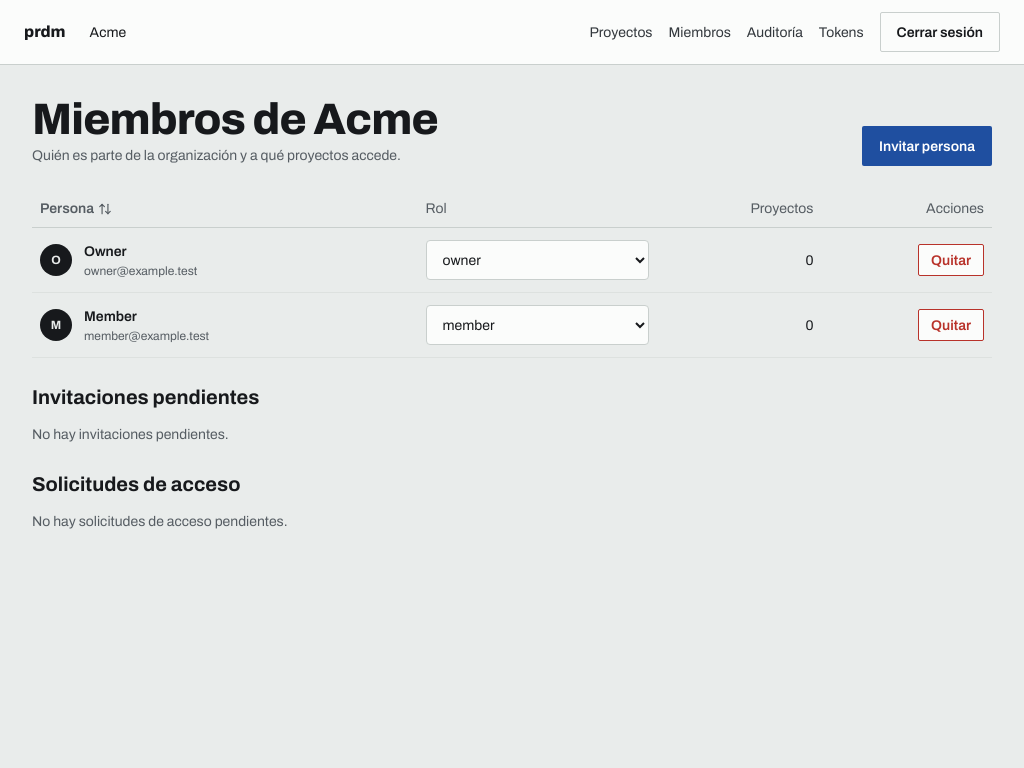
Test case: OrgMembersSettings › surfaces a server error (e.g. last-owner rule) without crashing the page
Expected: the text "owner@example.test" is shown, [84,262,197,280]
Click the button "Quitar" in the row of "owner@example.test": (951, 260) [918,244,984,276]
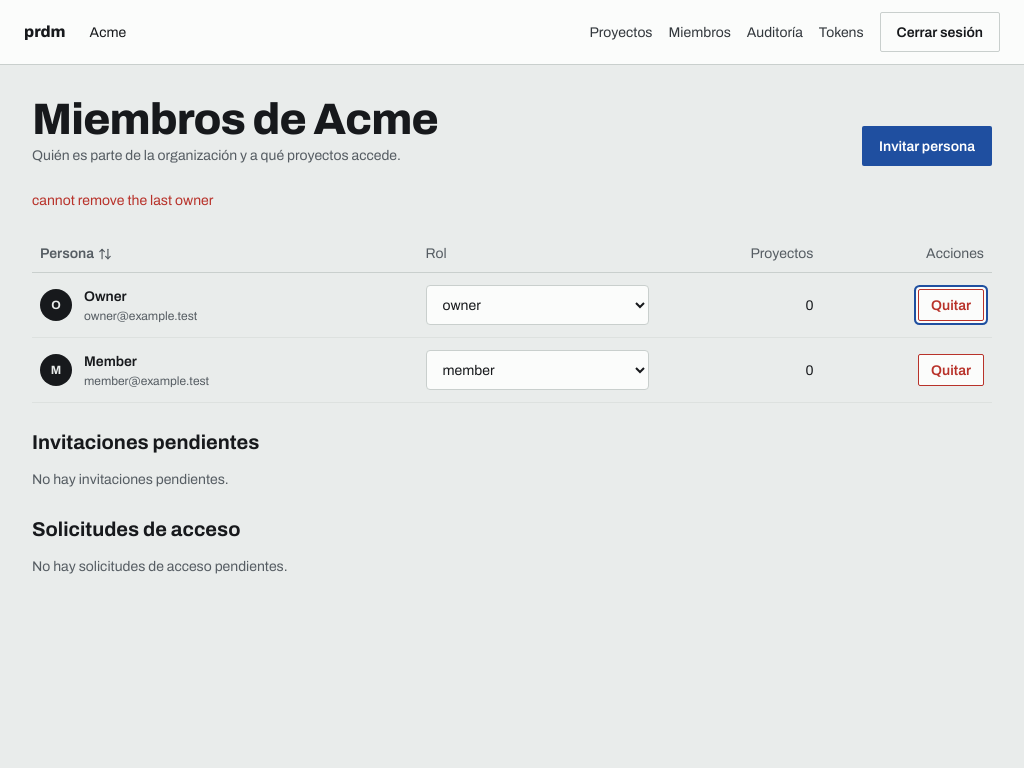
Now the text "cannot remove the last owner" is shown, box [32,193,213,208]
